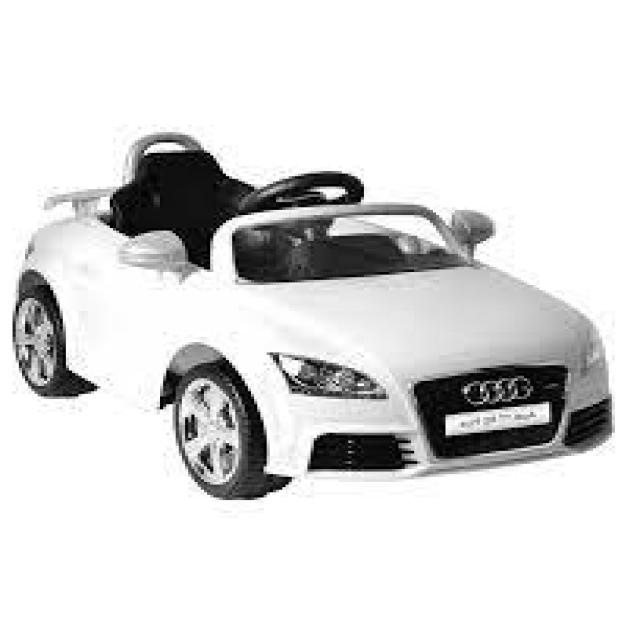Car: (13, 130, 618, 500)
